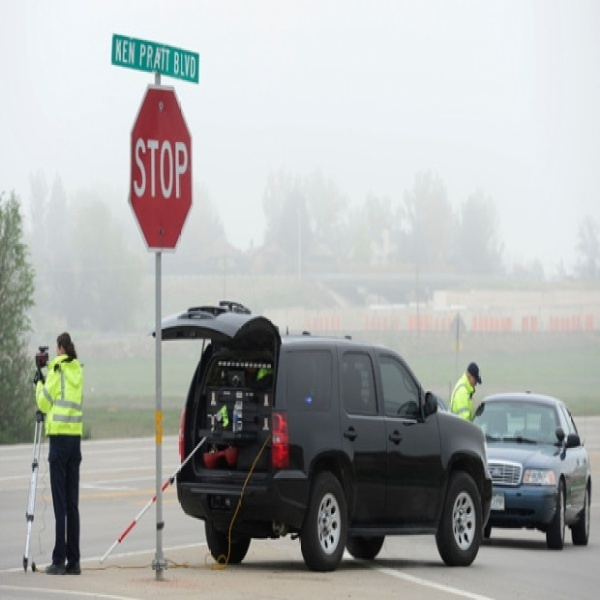stop: (128, 86, 203, 249)
